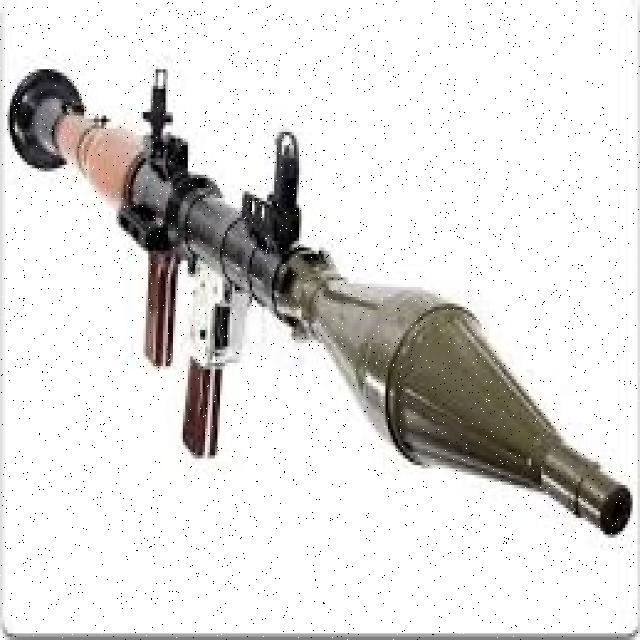bazooka: (7, 59, 640, 545)
